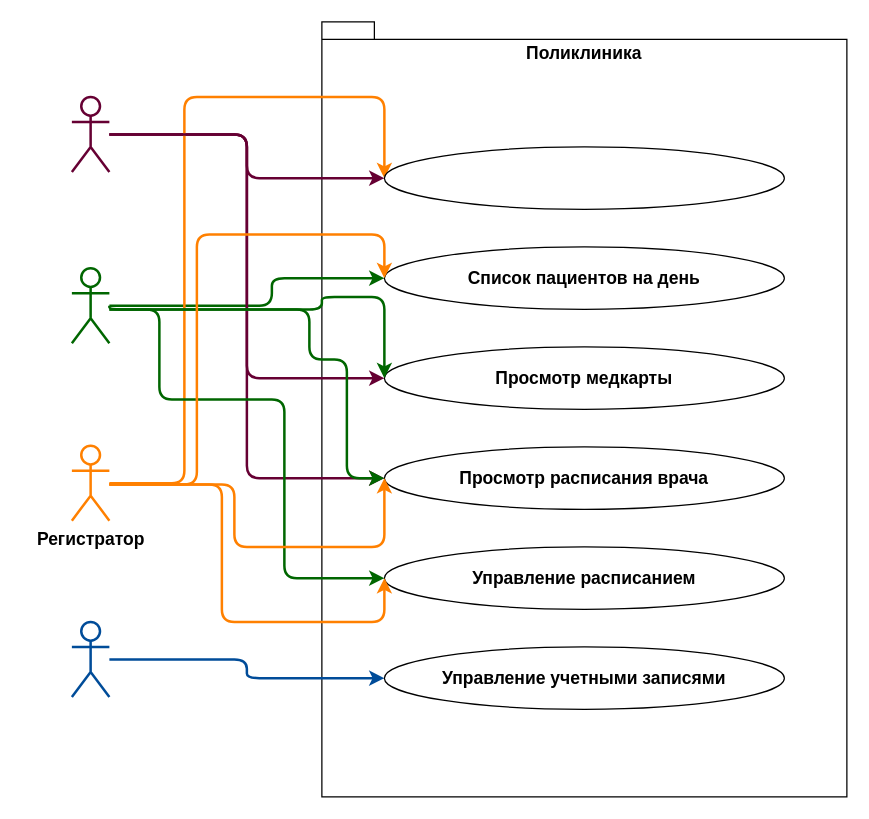
Image size: 869x819. Some labels were removed from this diagram. Each missing label, with the centre of its shape:
Администратор: pixel 90 659
Врач: pixel 90 305
Запись на прием: pixel 583 177
Пациент: pixel 90 133
